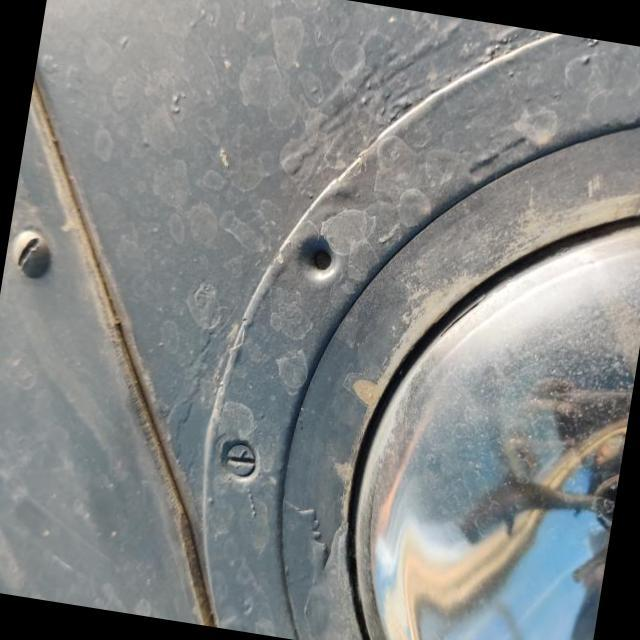Fastener Damage: (280, 220, 354, 295)
